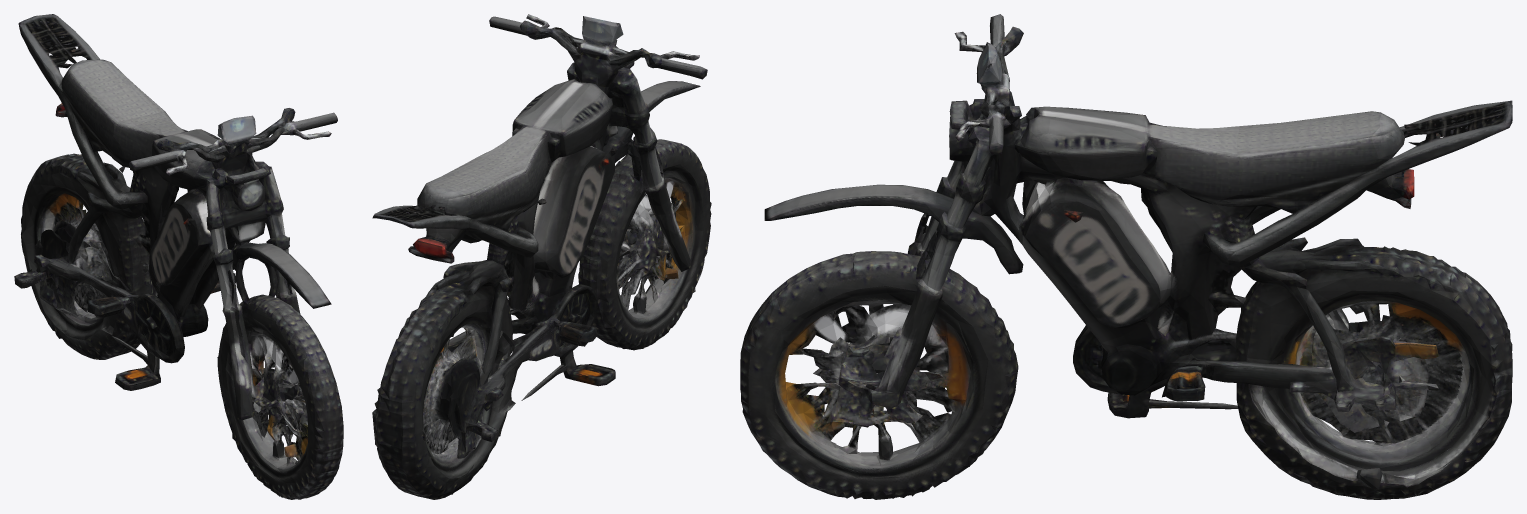
The model's file is bike3.glb.
3 renders of one model, left to right at view 1: azimuth 30°, elevation 25°; view 2: azimuth 150°, elevation 25°; view 3: azimuth 270°, elevation 25°, orthographic. The views are drawn at different scales.
Parts seen in each view (by area): view 1: world; view 2: world; view 3: world.
Boxes of the visible parts, bbox=[...] form: world: bbox=[14, 14, 343, 499]; world: bbox=[372, 14, 711, 499]; world: bbox=[740, 14, 1512, 499].
Bounding box in the file's own units: 0.3983 × 0.6325 × 1.
1 material, 1 textured.
